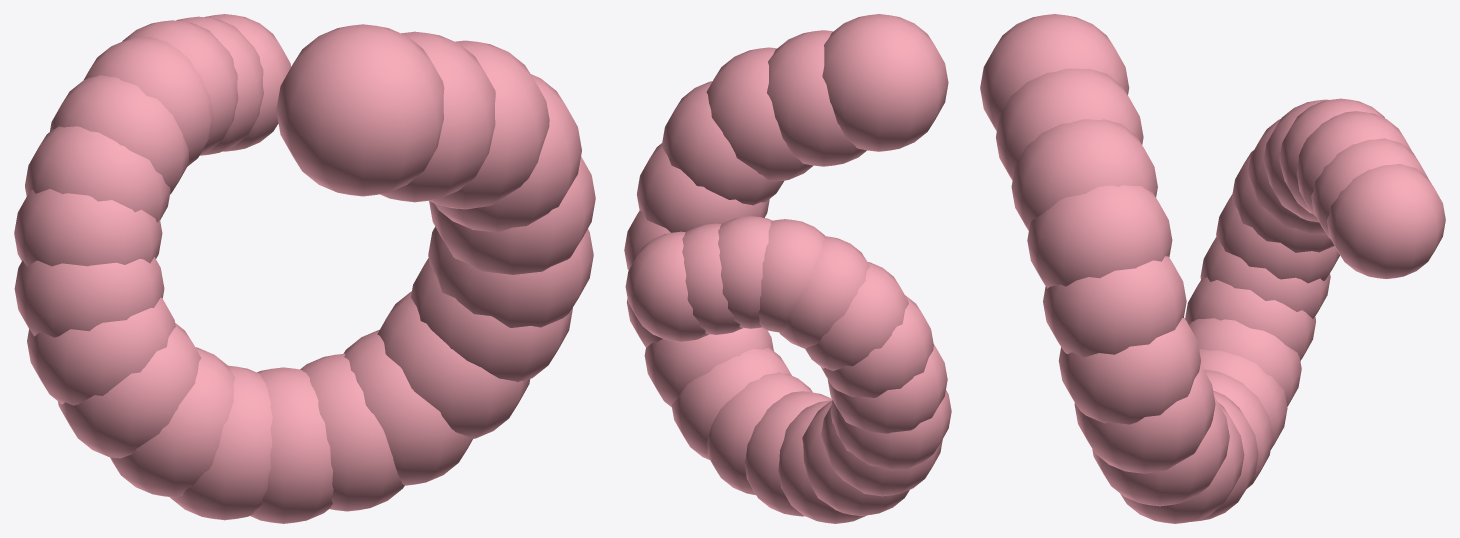
The model's file is tail_pig.glb.
3 views of the same model, side by side, from view 1: azimuth 30°, elevation 25°; view 2: azimuth 150°, elevation 25°; view 3: azimuth 270°, elevation 25° (orthographic). The views are drawn at different scales.
Size of the model in its own units: 0.2818 by 0.3156 by 0.281.
